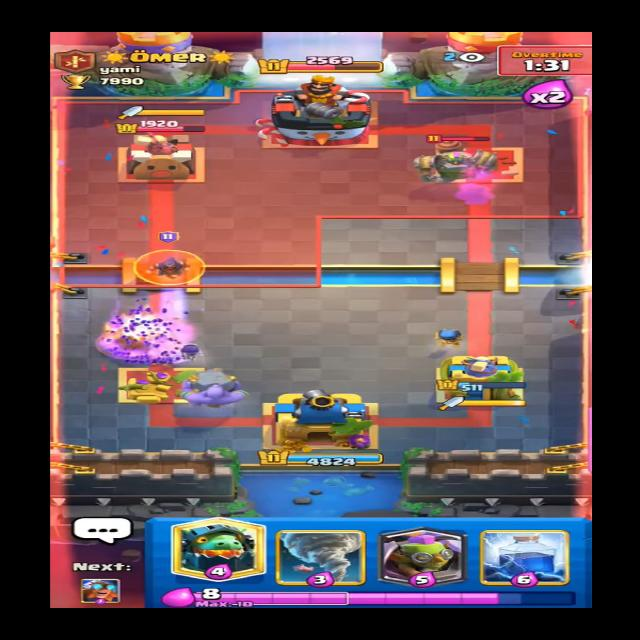evo-wizard: (132, 229, 211, 286)
goblin-machine: (407, 126, 503, 190)
